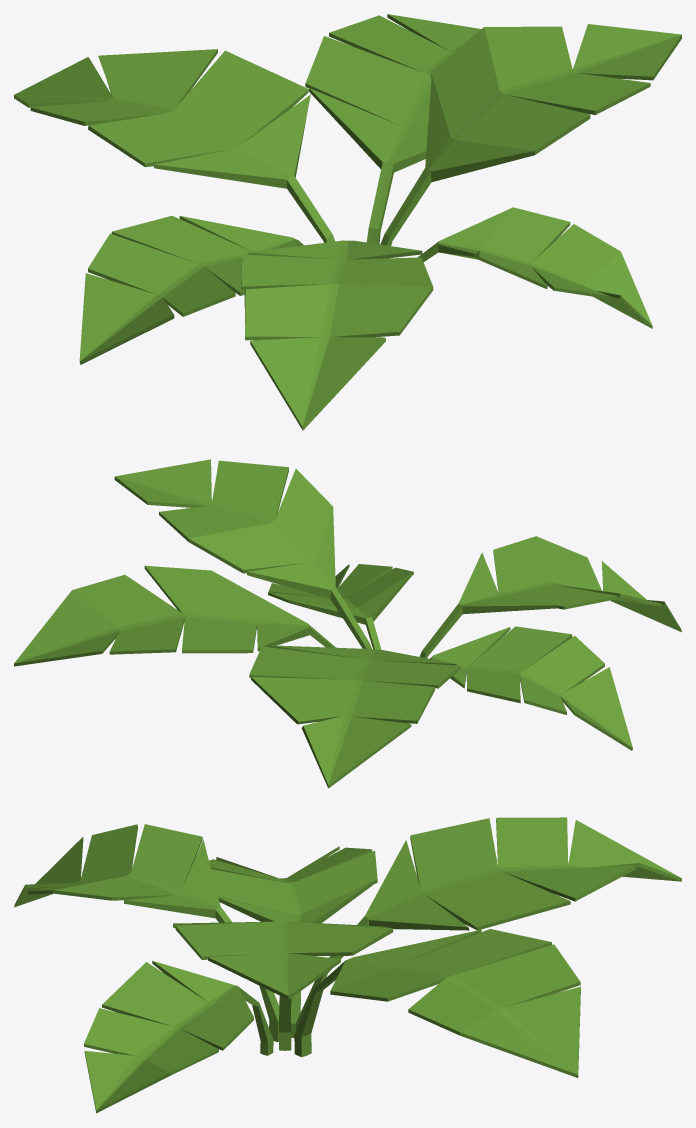
File: Bush_03 2.glb
3 renders of one model, top to bottom at view 1: azimuth 30°, elevation 25°; view 2: azimuth 150°, elevation 25°; view 3: azimuth 270°, elevation 25°, orthographic. The views are drawn at different scales.
Visible parts, largest first — view 1: Bush_03_LOD0; view 2: Bush_03_LOD0; view 3: Bush_03_LOD0.
Part boxes in pixels (bbox=[...]): Bush_03_LOD0: bbox=[14, 14, 681, 430]; Bush_03_LOD0: bbox=[14, 459, 681, 788]; Bush_03_LOD0: bbox=[14, 817, 681, 1113].
Size of what is drawn, in the model's own units: 1.5 by 0.5155 by 1.51.
1 material, 1 textured.
